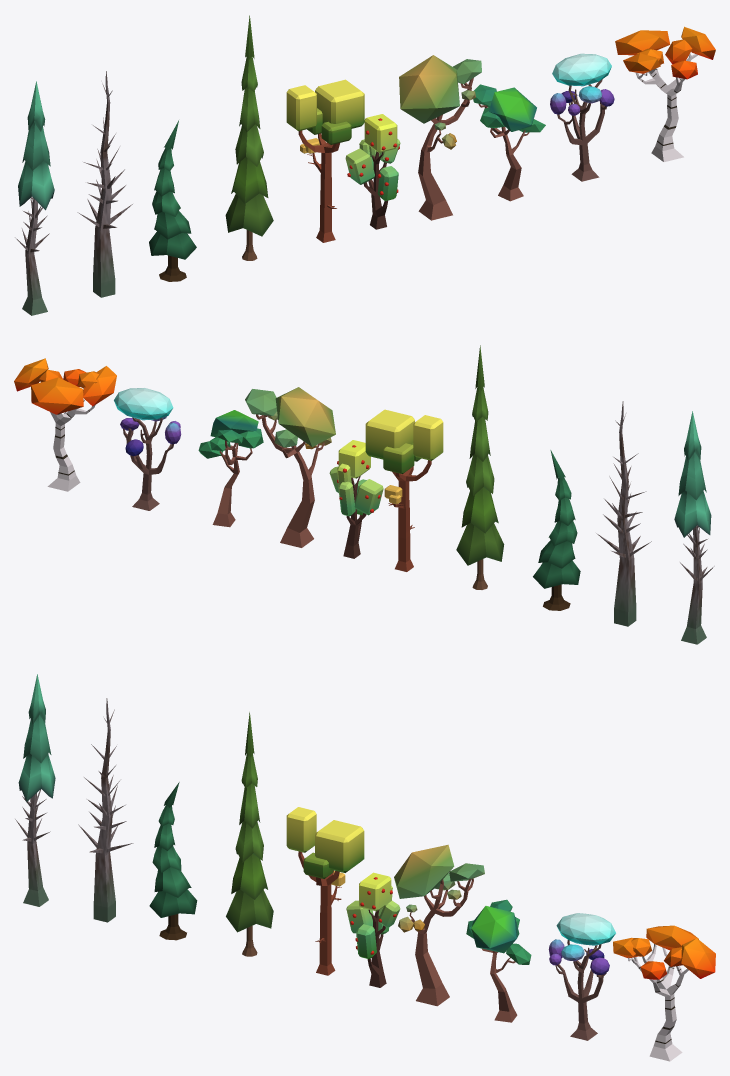
3 views of the same model, one above another, from view 1: azimuth 30°, elevation 25°; view 2: azimuth 150°, elevation 25°; view 3: azimuth 330°, elevation 25° (orthographic).
Parts seen in each view (by area): view 1: bonsai, cube tree, birch, pine _Material.010_0, semi deth pine, sky tree, fruit cube tree, dark pine, bonsai 2, deth pine; view 2: bonsai, cube tree, birch, pine _Material.010_0, semi deth pine, sky tree, dark pine, fruit cube tree, deth pine, bonsai 2; view 3: bonsai, cube tree, birch, pine _Material.010_0, semi deth pine, sky tree, dark pine, fruit cube tree, bonsai 2, deth pine.
Part boxes in pixels (left/top/right/bottom): bonsai: left=399, top=55, right=481, bottom=220; cube tree: left=286, top=79, right=364, bottom=242; birch: left=615, top=26, right=715, bottom=161; pine _Material.010_0: left=225, top=15, right=273, bottom=236; semi deth pine: left=15, top=81, right=54, bottom=315; sky tree: left=550, top=53, right=614, bottom=181; fruit cube tree: left=345, top=114, right=400, bottom=229; dark pine: left=149, top=120, right=196, bottom=281; bonsai 2: left=473, top=84, right=545, bottom=201; deth pine: left=77, top=71, right=132, bottom=297; bonsai: left=245, top=387, right=335, bottom=547; cube tree: left=365, top=409, right=443, bottom=571; birch: left=14, top=358, right=116, bottom=491; pine _Material.010_0: left=456, top=345, right=504, bottom=565; semi deth pine: left=674, top=411, right=714, bottom=644; sky tree: left=114, top=388, right=181, bottom=510; dark pine: left=533, top=450, right=580, bottom=610; fruit cube tree: left=329, top=440, right=383, bottom=558; deth pine: left=596, top=401, right=651, bottom=626; bonsai 2: left=198, top=410, right=263, bottom=527; bonsai: left=394, top=844, right=484, bottom=1006; cube tree: left=286, top=807, right=364, bottom=975; birch: left=613, top=925, right=715, bottom=1061; pine _Material.010_0: left=226, top=712, right=273, bottom=932; semi deth pine: left=15, top=674, right=55, bottom=906; sky tree: left=548, top=913, right=615, bottom=1040; dark pine: left=149, top=782, right=197, bottom=940; fruit cube tree: left=346, top=872, right=400, bottom=987; bonsai 2: left=466, top=899, right=531, bottom=1022; deth pine: left=78, top=698, right=133, bottom=922.
Size of the model in its own units: 33.8 by 11.21 by 4.3.
Materials: 21 (10 with a texture image).
